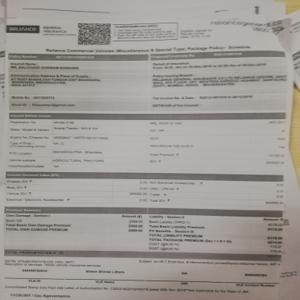image: (5, 22, 42, 34)
table: (9, 110, 287, 174), (11, 51, 288, 111), (5, 206, 284, 255), (5, 172, 285, 210)
